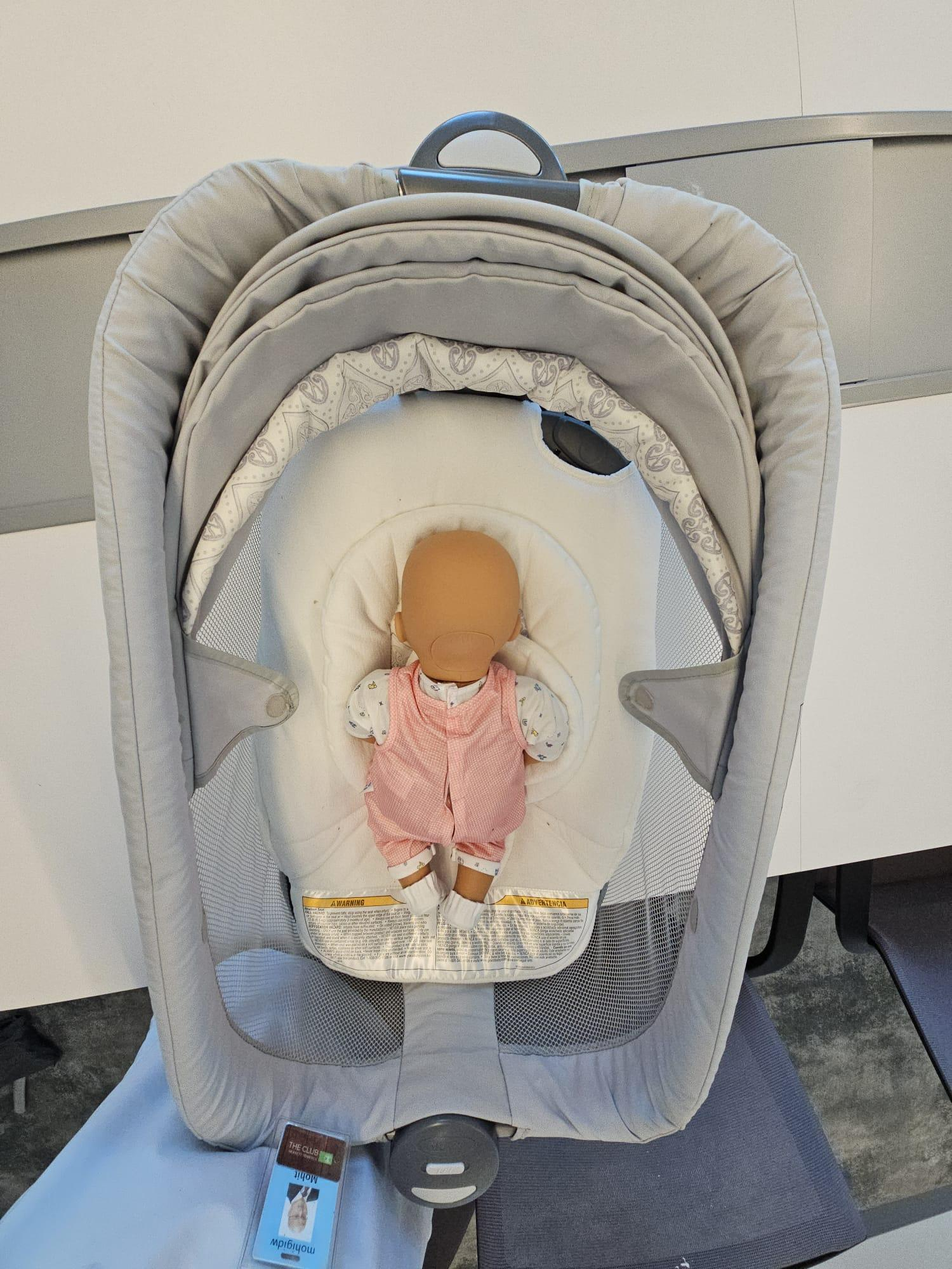baby: (327, 504, 564, 964)
